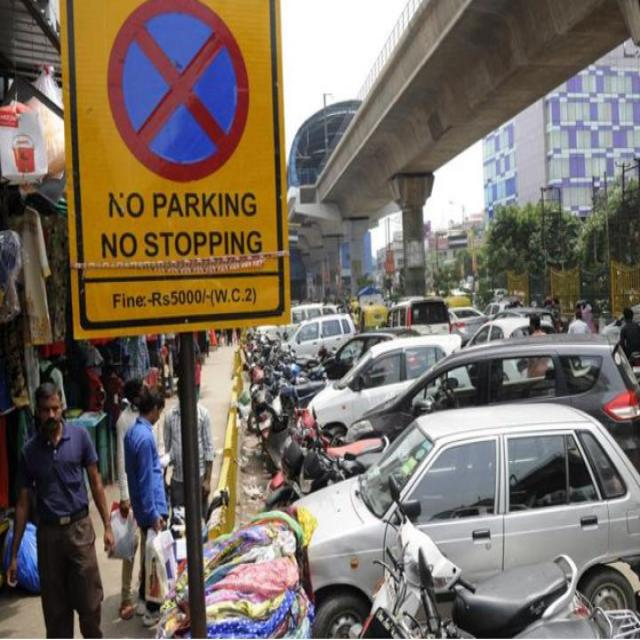No Parking: (264, 274, 633, 623)
